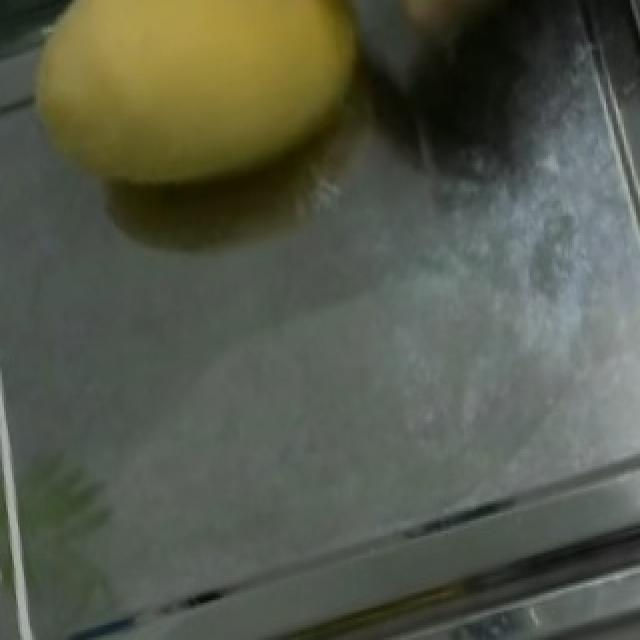fruit: (6, 0, 412, 233)
